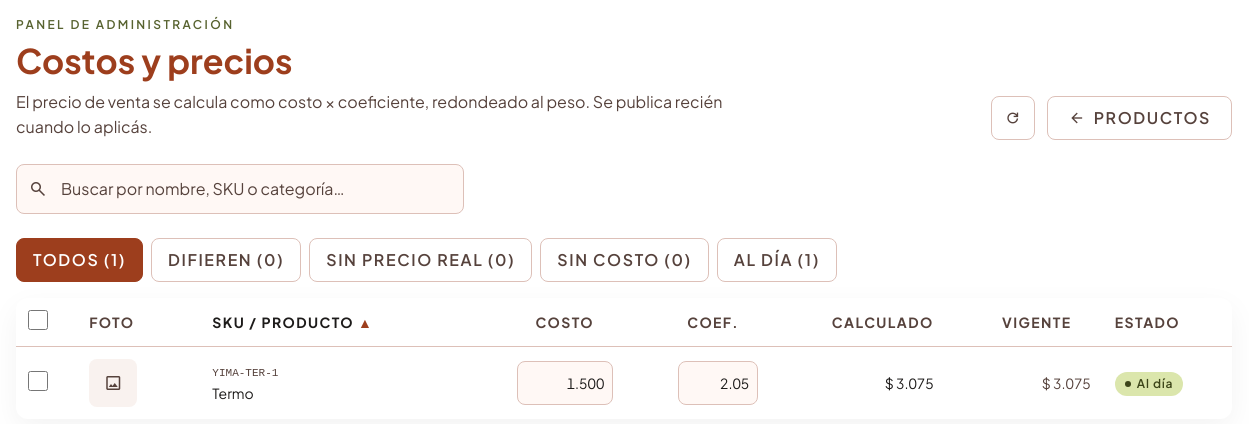
Test: AdminPrecios — el costo se ve con punto de miles y viaja pelado › formatea mientras se tipea, sin tocar el coeficiente
Expected: the text "Termo" is shown, [212,384,254,402]
Clear the 1st field named "Costo de Termo" at (565, 383), box [517,361,613,405]
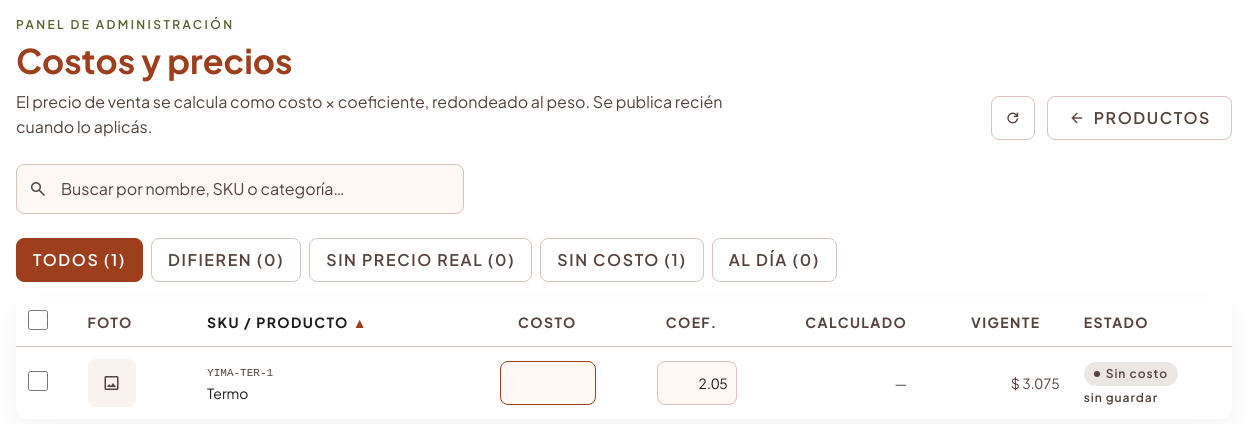
Type "25000" into the 1st field named "Costo de Termo".
click(548, 383); type("25000")  # box [500,361,596,405]
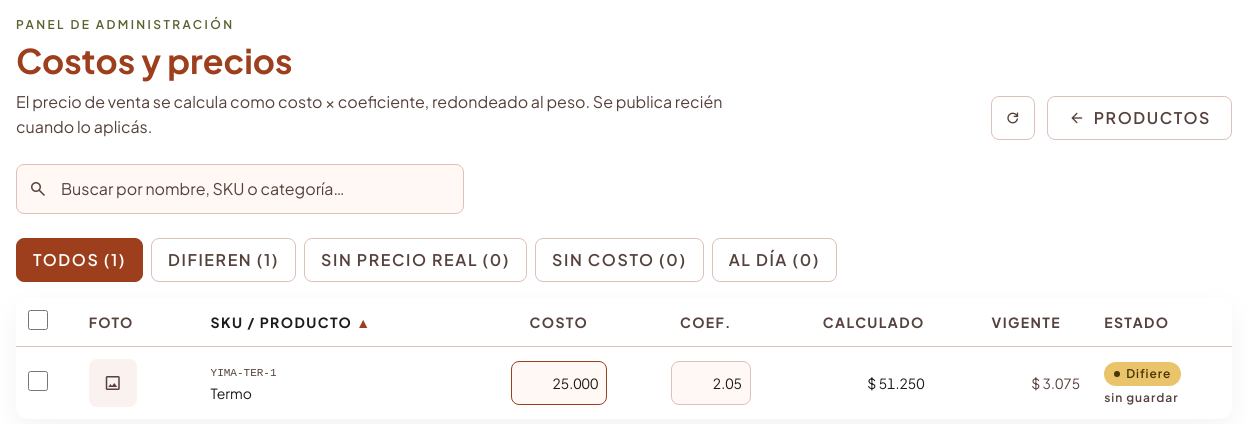
Expected: the 2nd field named "Coeficiente de Termo" holds "2.05", [671,361,751,405]
Now the 1st field named "Costo de Termo" holds "25.000", box [511,361,607,405]
